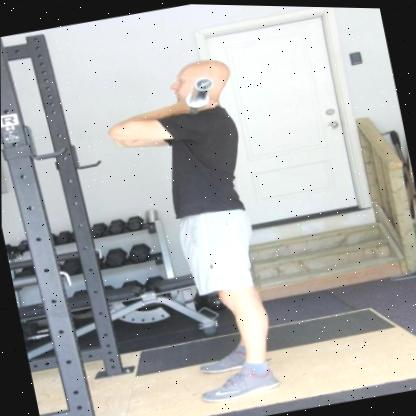person: (115, 43, 310, 416)
